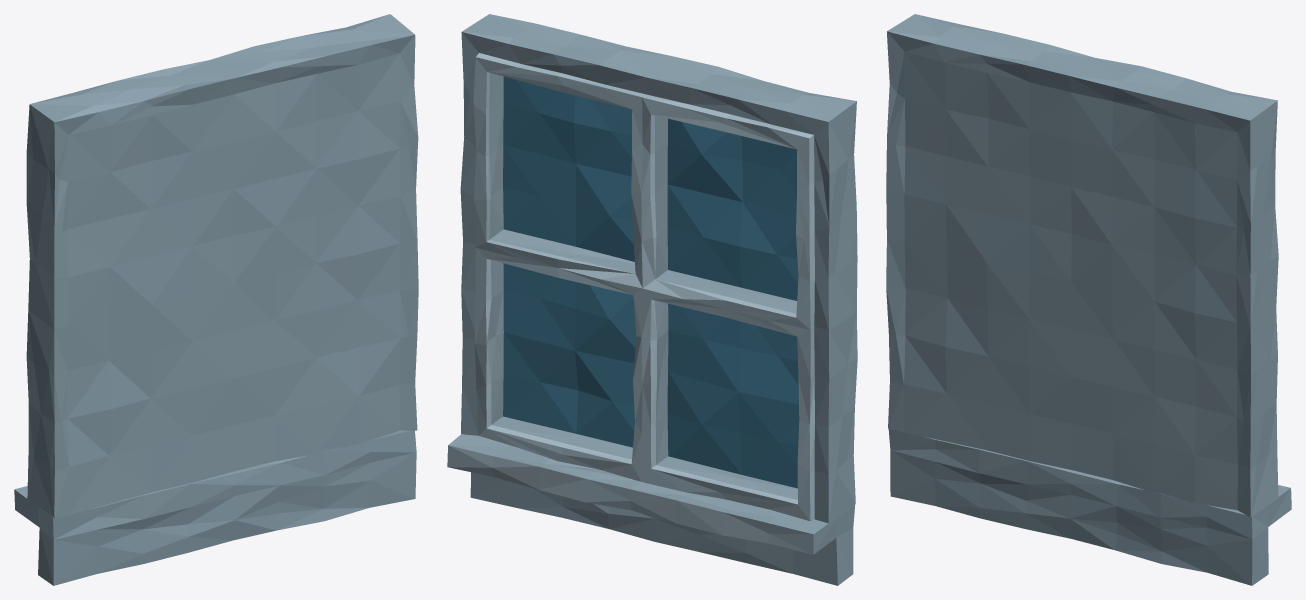
File: kitchen_window.fbx
3 views of the same model, side by side, from view 1: azimuth 30°, elevation 25°; view 2: azimuth 150°, elevation 25°; view 3: azimuth 330°, elevation 25° (orthographic).
Parts seen in each view (by area): view 1: kitchen_window; view 2: kitchen_window; view 3: kitchen_window.
Part boxes in pixels (x1,y1,x2,y2): kitchen_window: (14, 14, 418, 585); kitchen_window: (447, 14, 857, 585); kitchen_window: (886, 14, 1291, 585).
Bounding box in the file's own units: 88.16 × 108 × 17.91.
